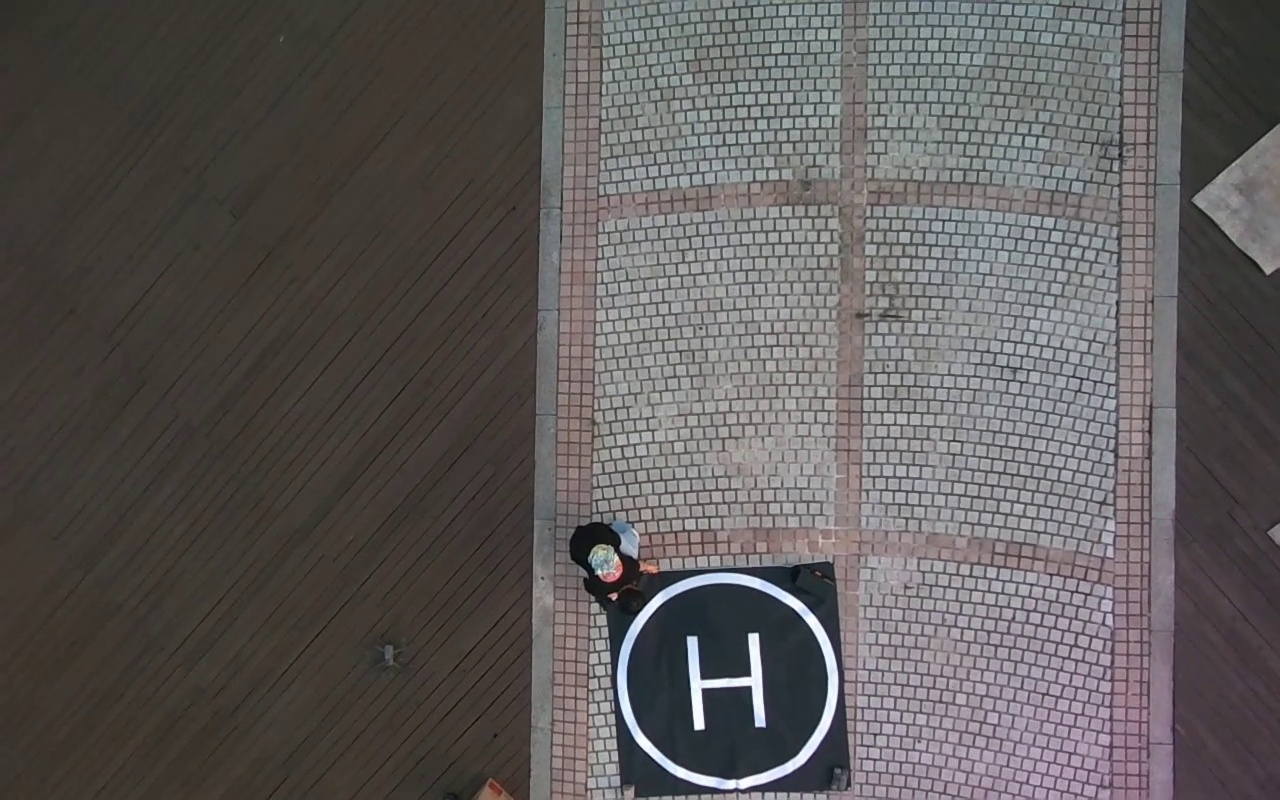H: (685, 631, 767, 729)
heliport: (616, 572, 840, 787)
